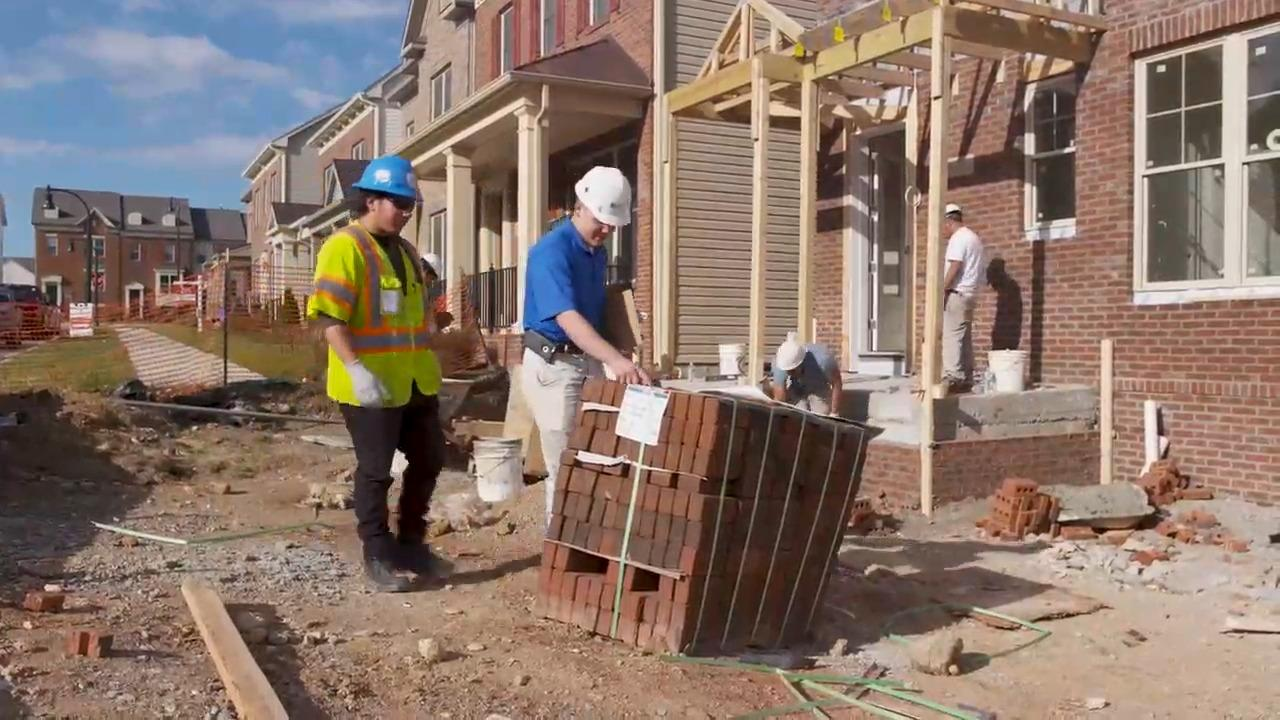Gloves: (354, 366, 391, 412)
Helmet: (575, 165, 637, 225), (367, 160, 430, 202), (780, 334, 813, 373), (419, 253, 441, 279), (941, 199, 963, 223)
Person: (305, 154, 455, 592), (521, 154, 654, 476), (933, 195, 993, 388), (771, 332, 843, 418)
Safety Boot: (366, 543, 439, 586), (938, 370, 968, 391)
Safety Vest: (326, 241, 432, 400)
bare-arms: (609, 360, 657, 390)
no-vest: (522, 247, 602, 331), (782, 362, 834, 397), (950, 233, 982, 289)
